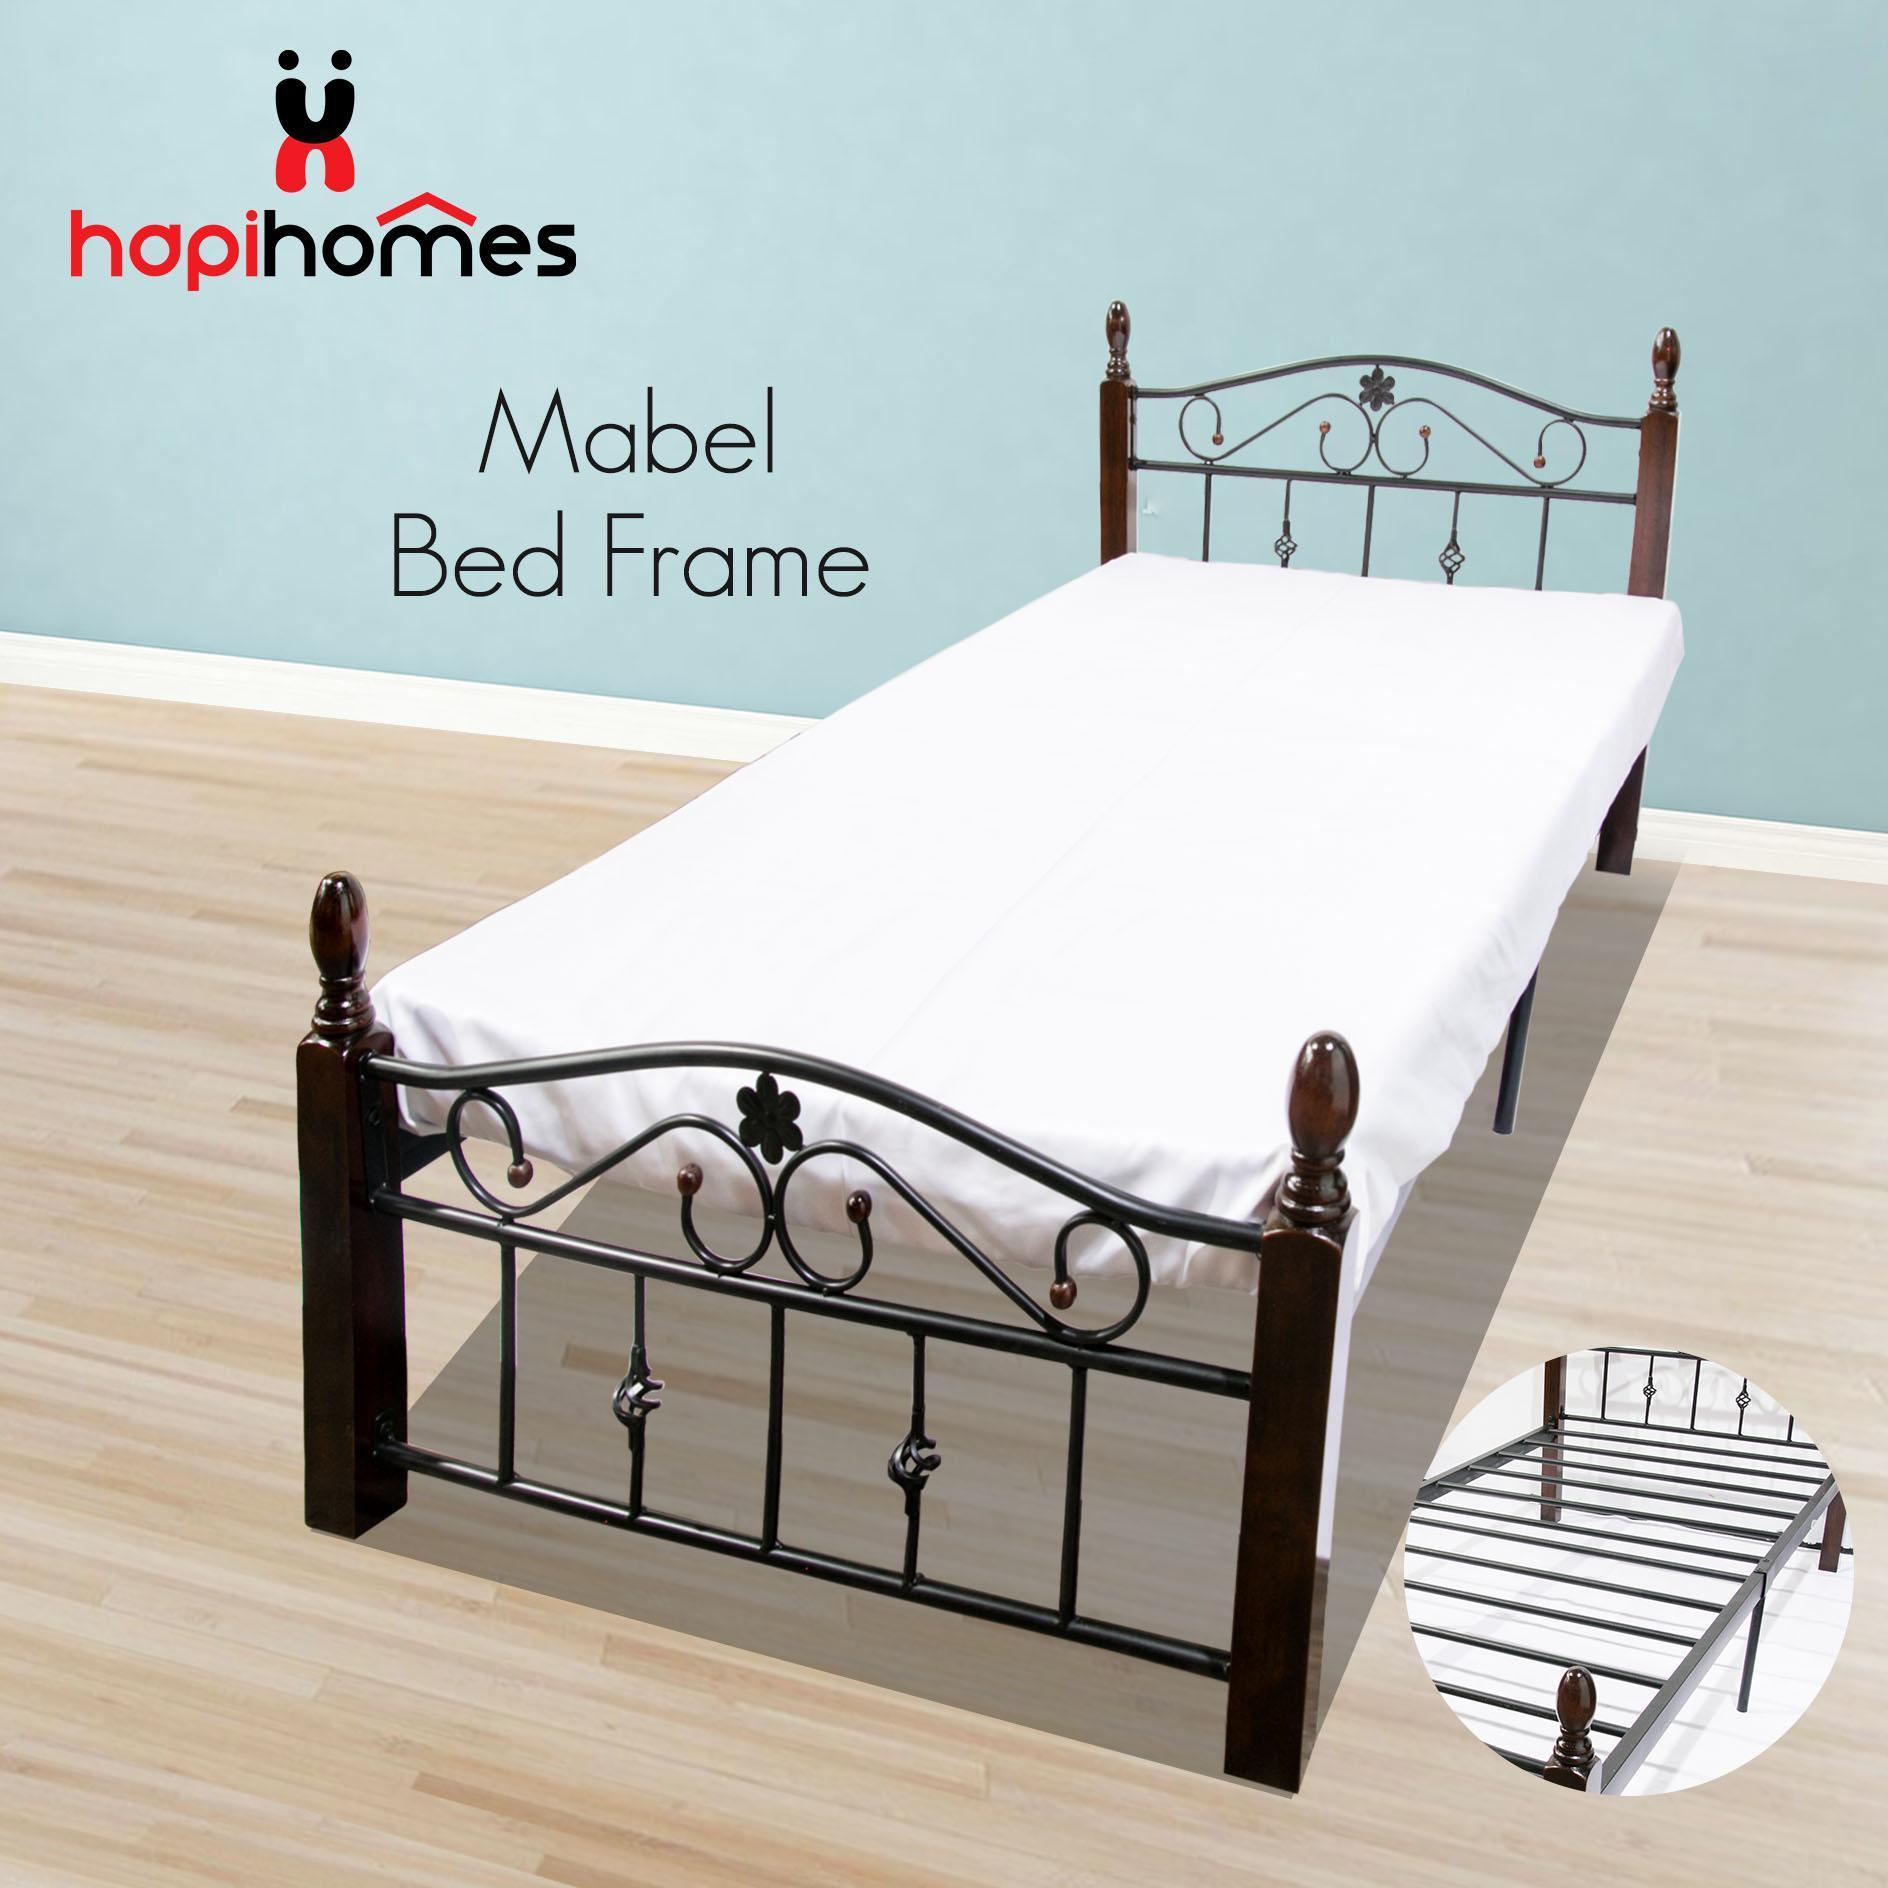bed: (444, 365, 1644, 1411)
